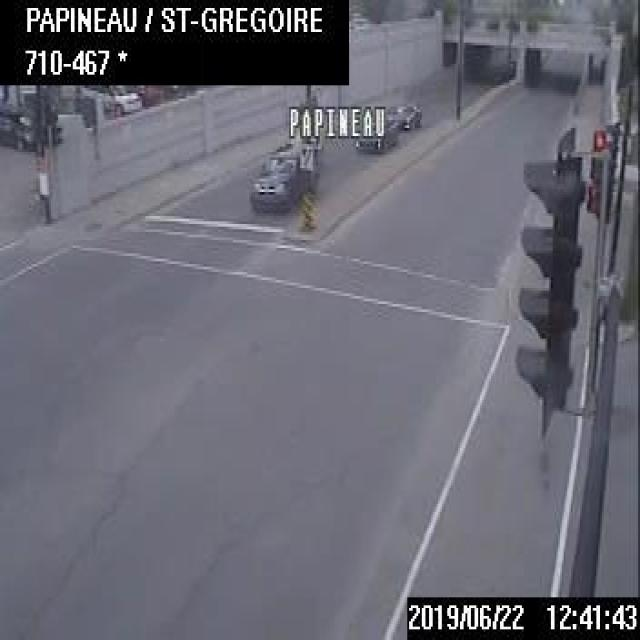vehicle: (249, 138, 318, 214), (82, 82, 143, 116), (0, 97, 38, 148), (354, 119, 396, 152), (387, 101, 418, 129)
